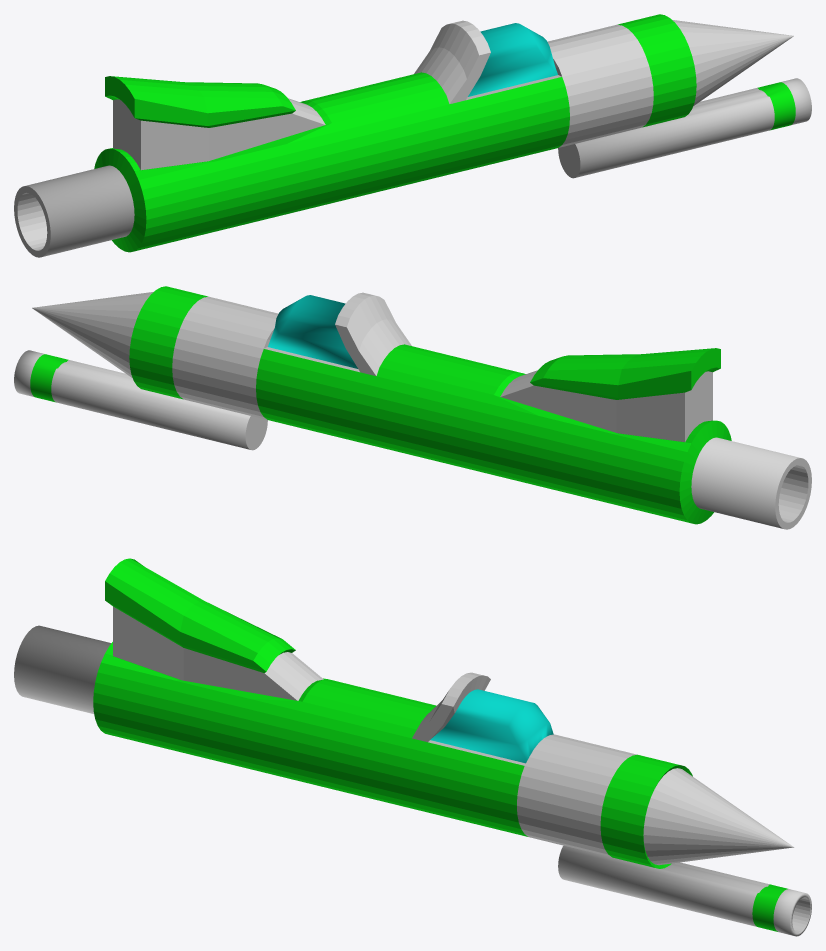
File: Player2.fbx
3 renders of one model, top to bottom at view 1: azimuth 30°, elevation 25°; view 2: azimuth 150°, elevation 25°; view 3: azimuth 330°, elevation 25°, orthographic.
Parts seen in each view (by area): view 1: Cylinder; view 2: Cylinder; view 3: Cylinder.
Boxes of the visible parts, x1,y1,x2,y2 form: Cylinder: [14, 14, 811, 257]; Cylinder: [14, 286, 811, 529]; Cylinder: [14, 558, 811, 936].
Size of the model in its own units: 1669 by 429 by 200.
